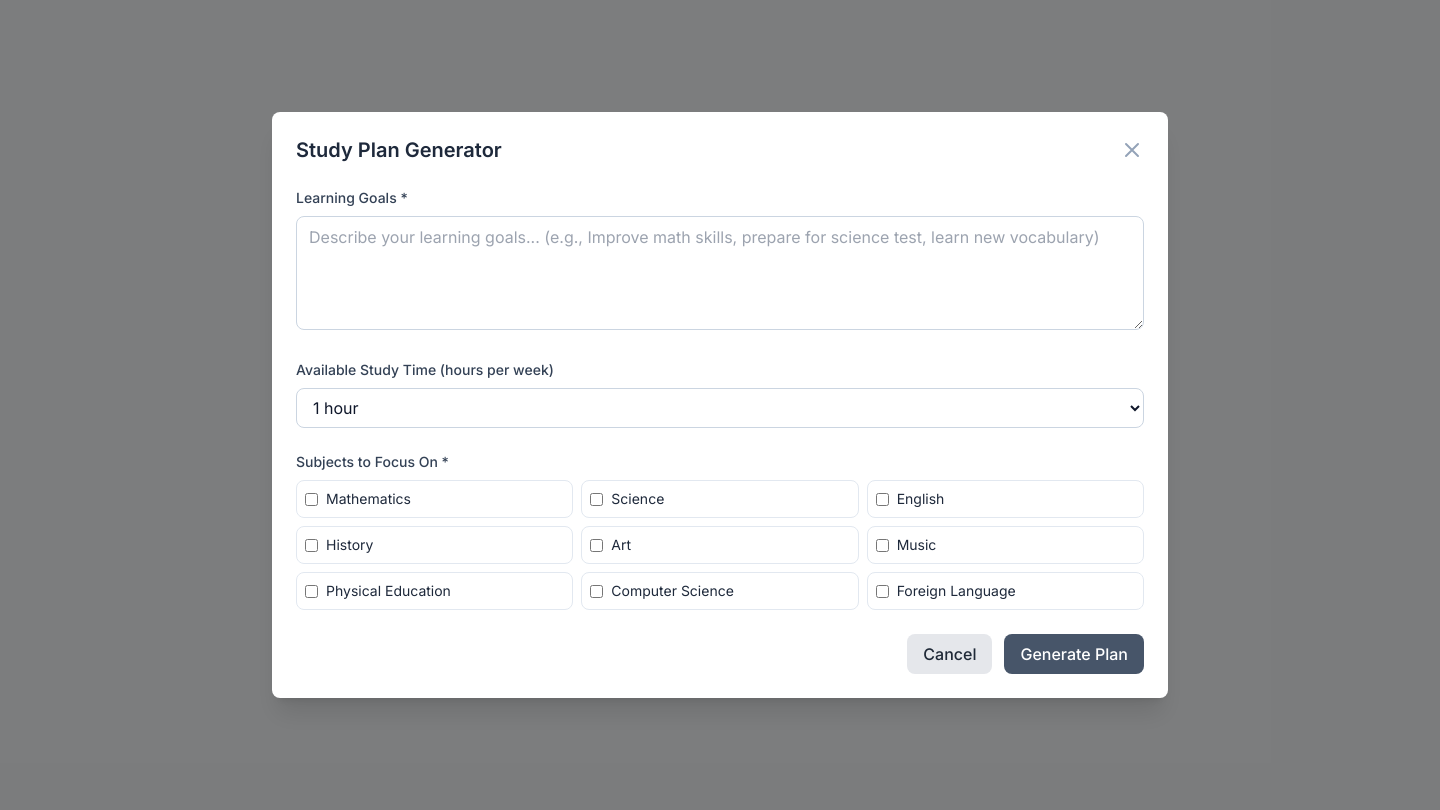
Scenario: LMS Platform Test Suite › Error Handling Tests › should handle study plan generation failure
The image size is (1440, 810).
Fill in form
Replace the text in the text box with placeholder "Describe your learning goals" with "Learn mathematics": (720, 273) [296,216,1144,330]
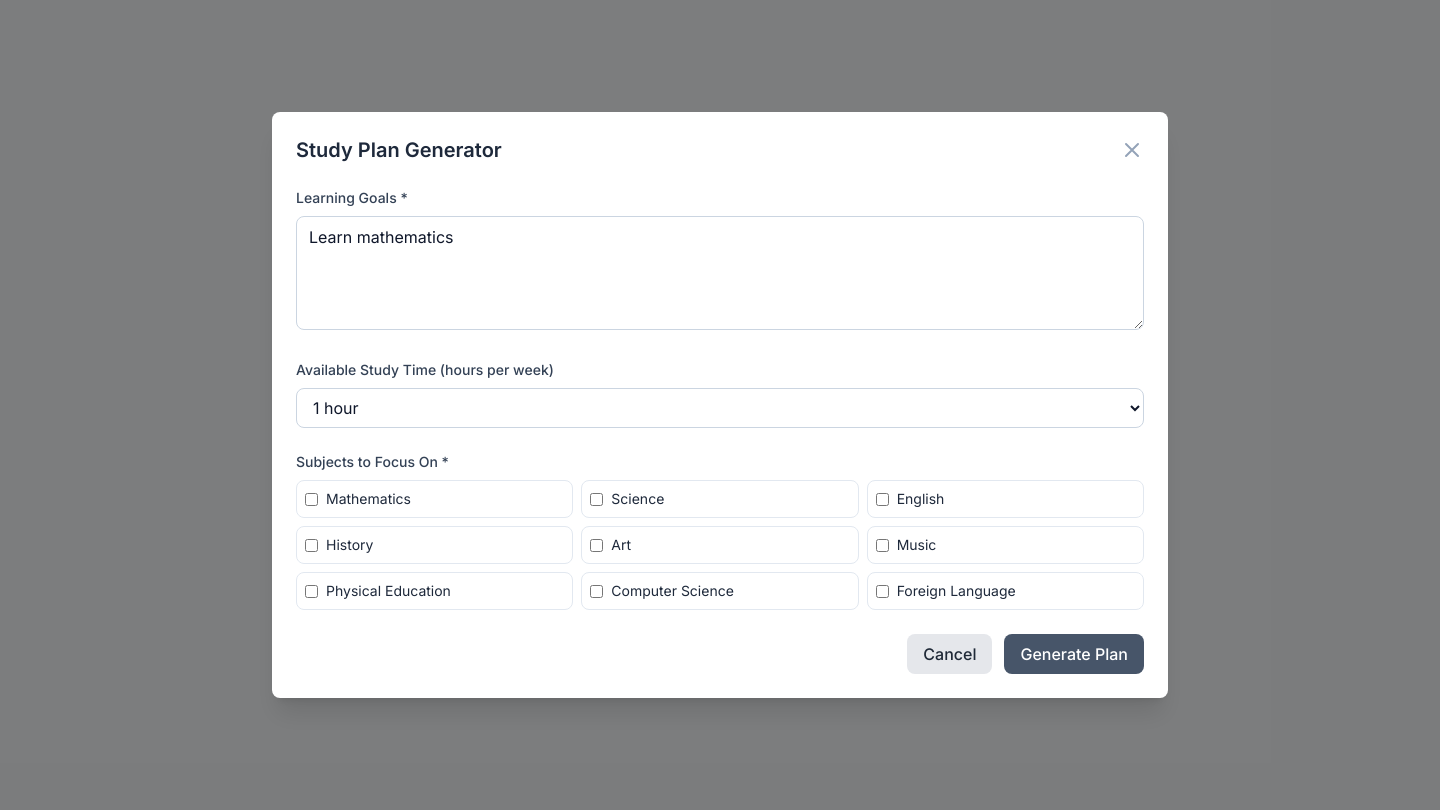
Click the checkbox labelled "Mathematics": (312, 499) [305,492,318,506]
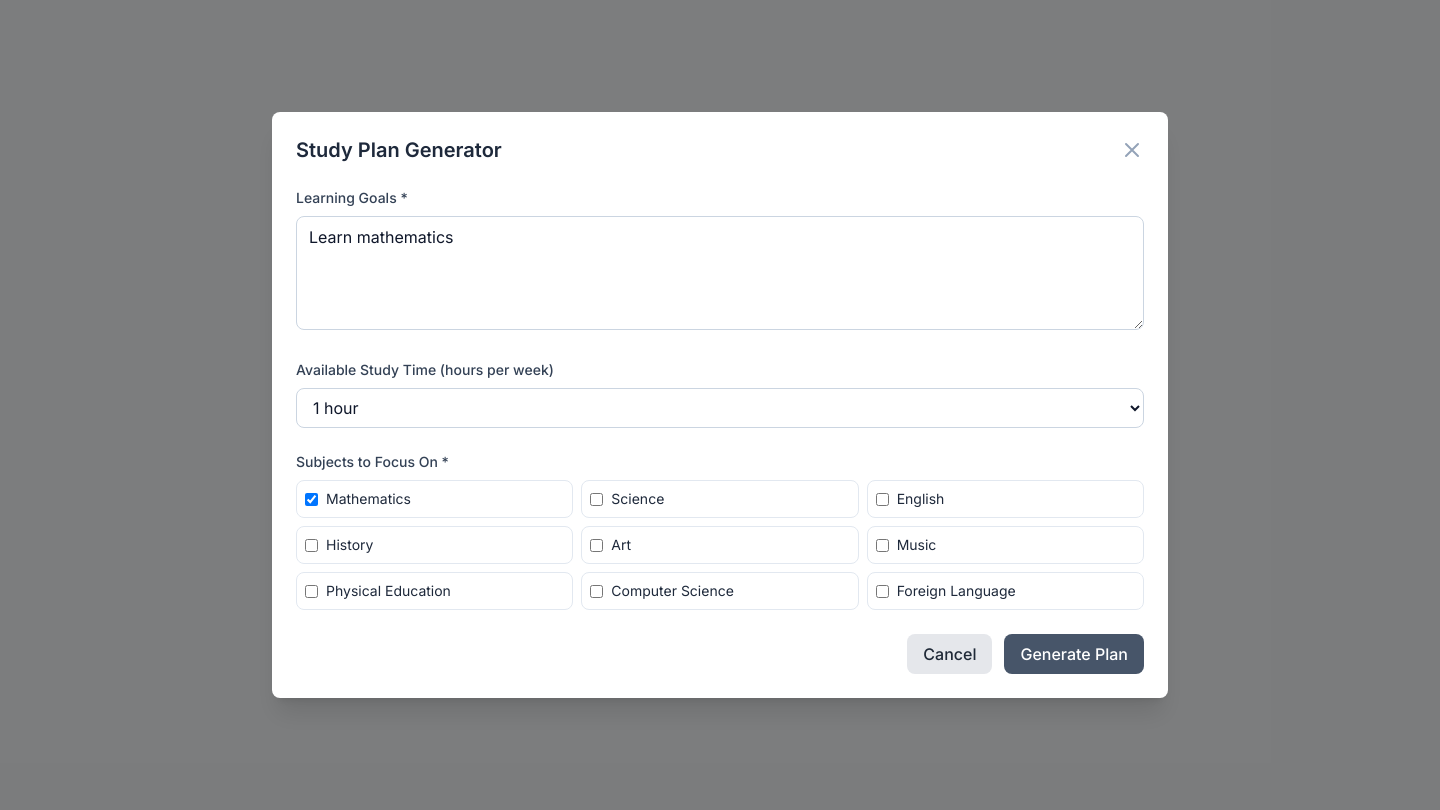
Click the button "Generate Plan": (1074, 654) [1004,634,1144,674]
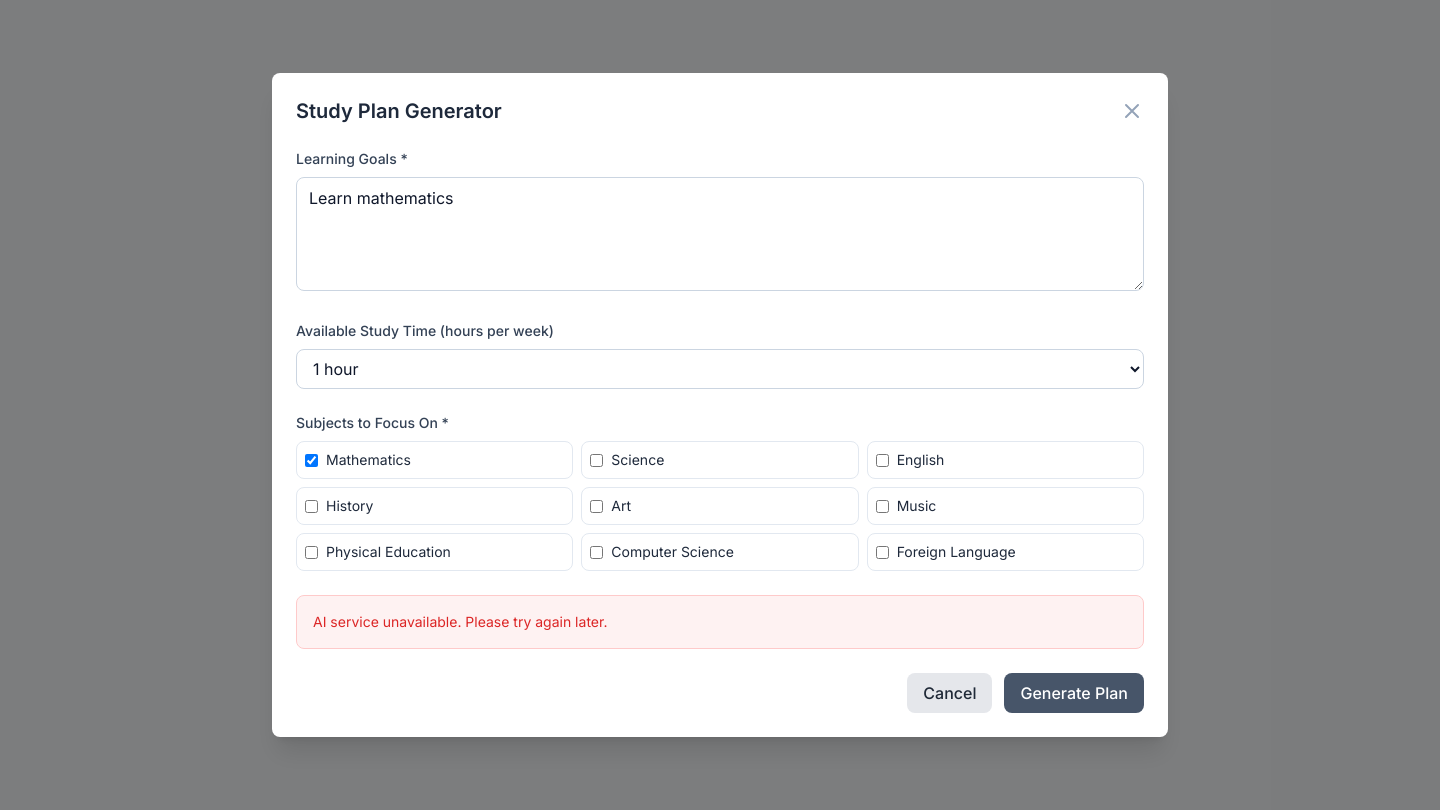
Expected: the text "AI service unavailable. Please try again later." is shown, [313,613,607,630]
